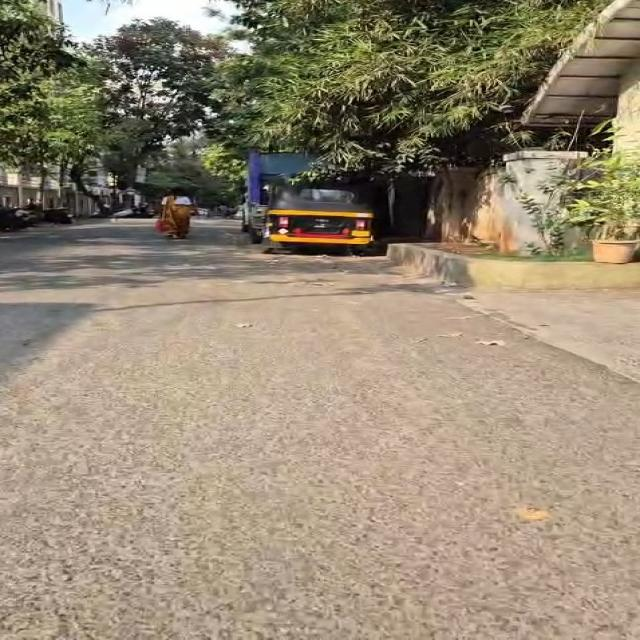obstacle: (266, 185, 374, 252), (161, 189, 194, 239)
